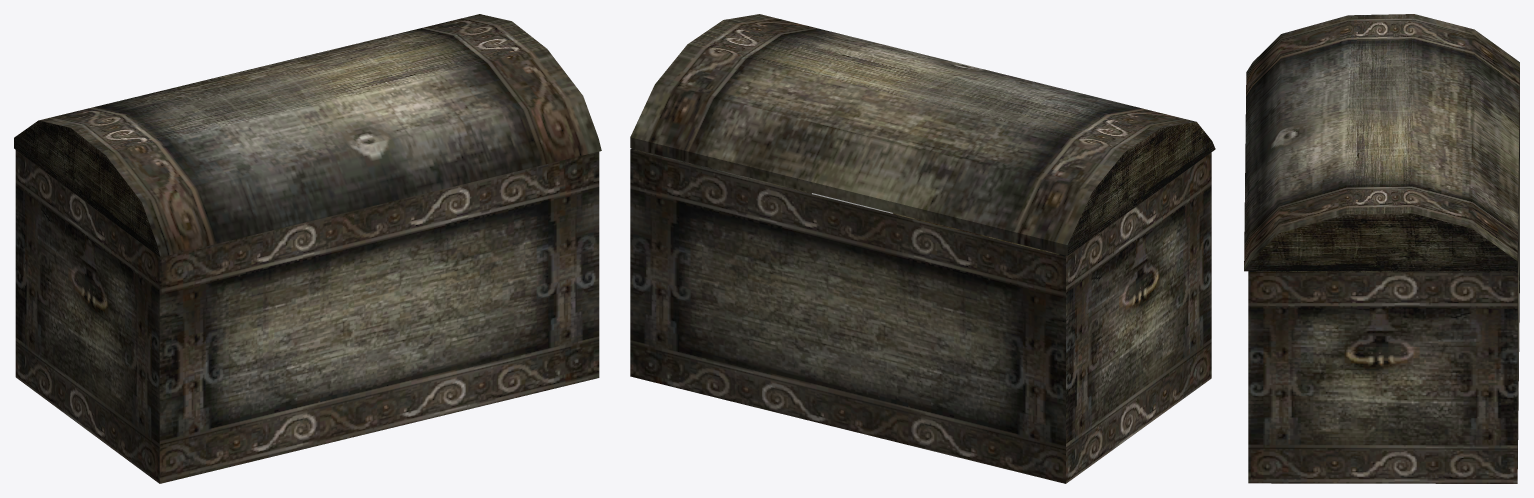
Rendered from chest_small.dae.
3 renders of one model, left to right at view 1: azimuth 30°, elevation 25°; view 2: azimuth 150°, elevation 25°; view 3: azimuth 270°, elevation 25°, orthographic. The views are drawn at different scales.
Parts seen in each view (by area): view 1: box, lock; view 2: box, lock; view 3: lock, box.
Boxes of the visible parts, left/top/right/bottom form: box: left=15, top=150, right=599, bottom=483; lock: left=14, top=14, right=601, bottom=257; box: left=630, top=148, right=1211, bottom=483; lock: left=630, top=14, right=1215, bottom=255; lock: left=1244, top=14, right=1519, bottom=271; box: left=1248, top=83, right=1519, bottom=483.
Size of what is drawn, in the model's own units: 0.8577 by 0.5419 by 0.5007.
